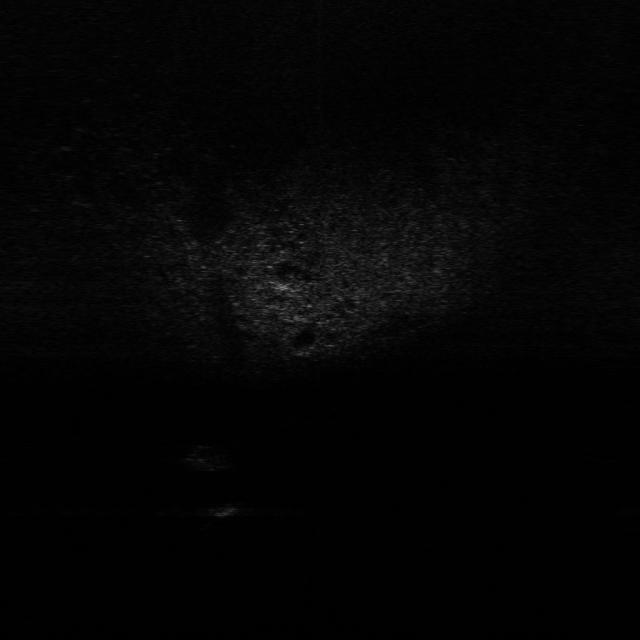circle cage: (181, 438, 233, 474)
cylinder: (206, 499, 237, 530)
